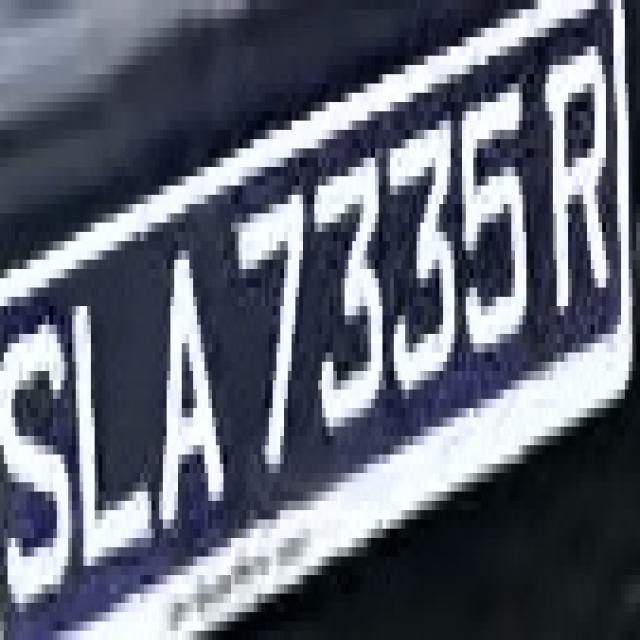3: (299, 139, 386, 455), (368, 111, 458, 408)
5: (451, 74, 534, 371)
7: (223, 176, 314, 501)
A: (144, 223, 235, 547)
L: (65, 251, 152, 575)
R: (530, 9, 617, 334)
S: (4, 260, 76, 621)
